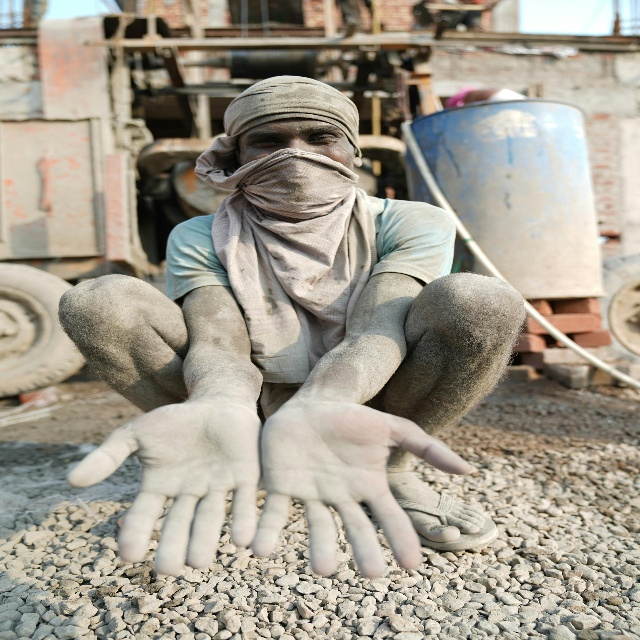Sin_guantes: (251, 396, 475, 580), (67, 396, 261, 578)
